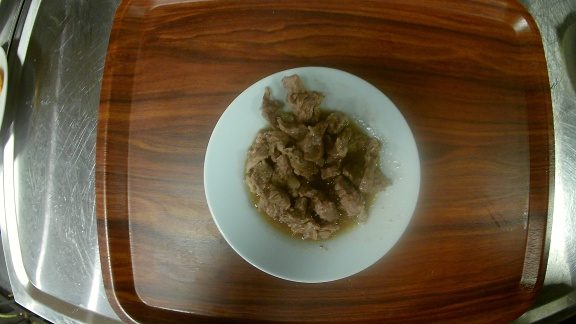etsote: (203, 65, 423, 284)
